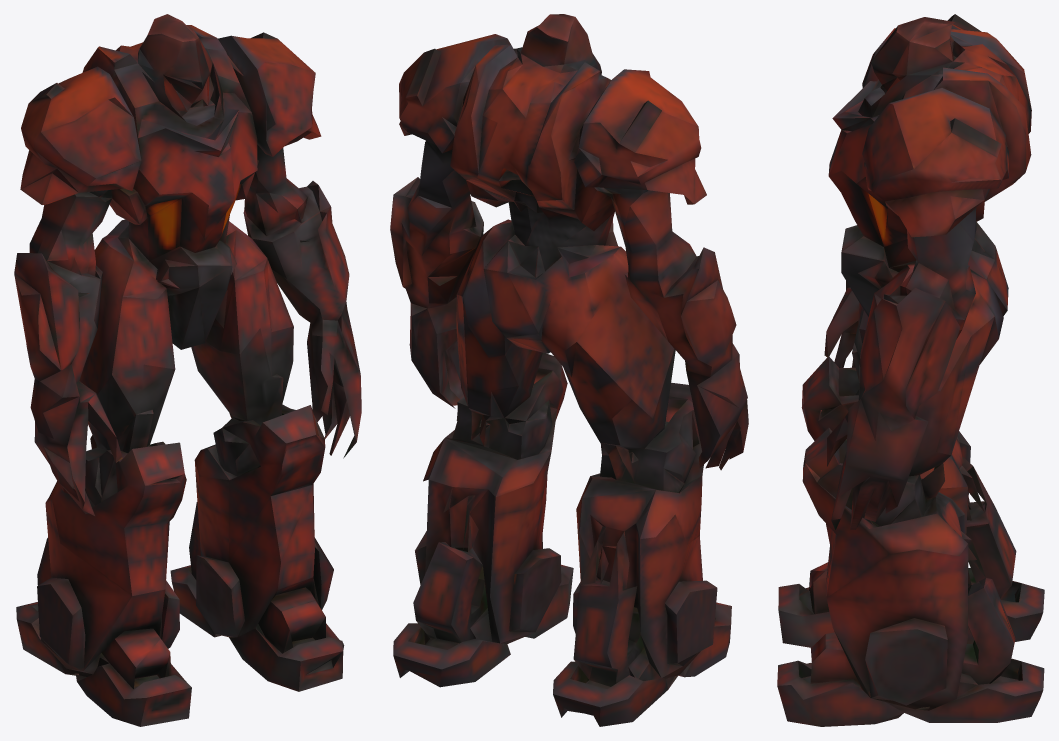
The model's file is boss_kras.glb.
3 views of the same model, side by side, from view 1: azimuth 30°, elevation 25°; view 2: azimuth 150°, elevation 25°; view 3: azimuth 270°, elevation 25° (orthographic). The views are drawn at different scales.
Bounding box in the file's own units: 0.9866 × 1.9 × 0.7043.
Materials: 1 (1 with a texture image).
